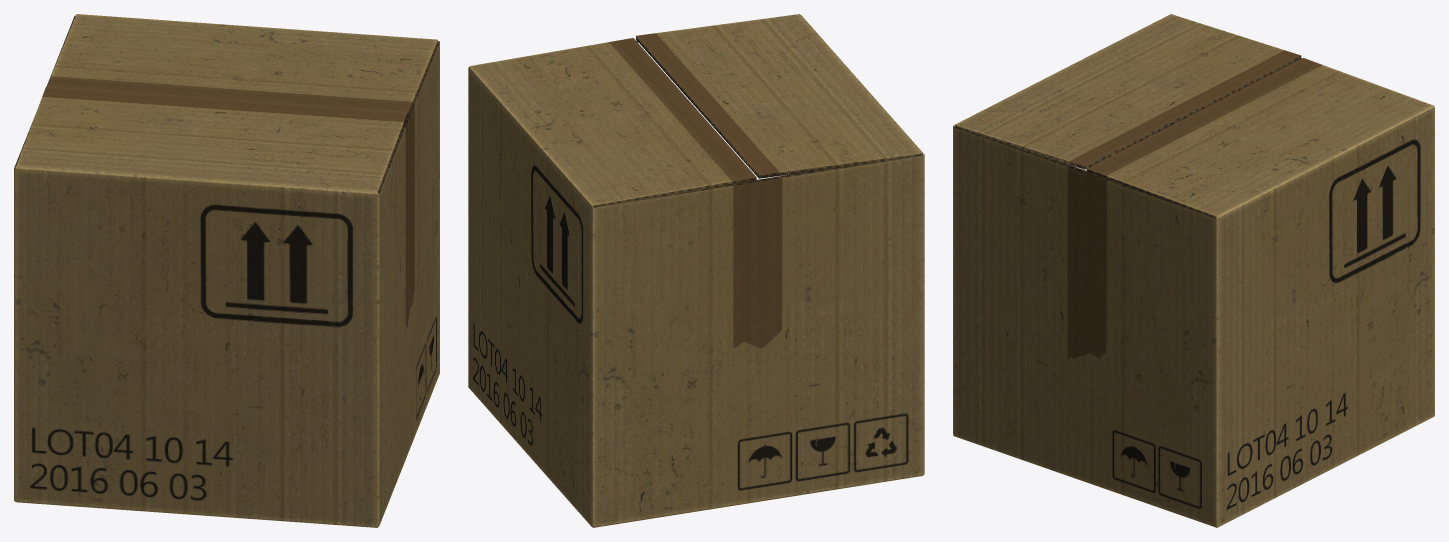
File: biox.gltf
3 renders of one model, left to right at view 1: azimuth 30°, elevation 25°; view 2: azimuth 150°, elevation 25°; view 3: azimuth 270°, elevation 25°, orthographic. The views are drawn at different scales.
Parts seen in each view (by area): view 1: node_Cardboard_box_1 (1)_62698; view 2: node_Cardboard_box_1 (1)_62698; view 3: node_Cardboard_box_1 (1)_62698.
Part boxes in pixels (x1=…): node_Cardboard_box_1 (1)_62698: x1=14, y1=14, x2=439, y2=527; node_Cardboard_box_1 (1)_62698: x1=468, y1=14, x2=924, y2=527; node_Cardboard_box_1 (1)_62698: x1=953, y1=14, x2=1434, y2=527.
Size of the model in its own units: 0.8408 by 0.6075 by 0.8408.
1 material, 1 textured.
